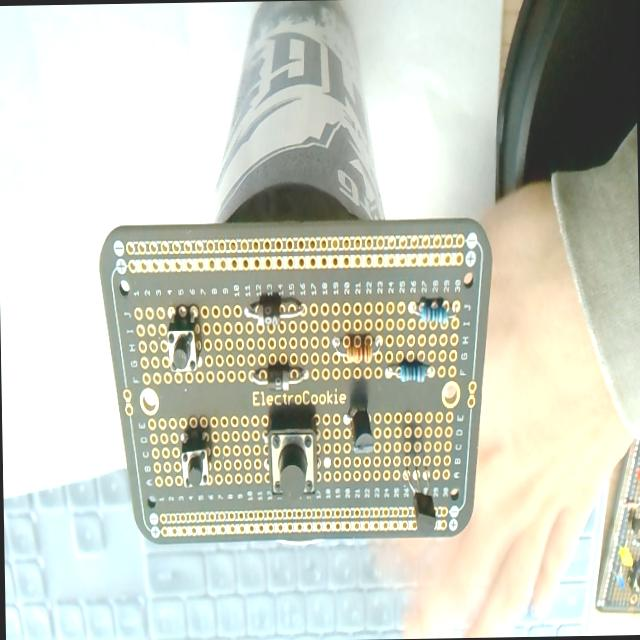diode: (240, 294, 314, 338), (246, 354, 314, 388)
resistor: (402, 288, 458, 328), (380, 354, 444, 386), (329, 330, 386, 362)
switch: (266, 416, 324, 500), (162, 306, 204, 383), (178, 431, 220, 494)
transistor: (399, 459, 436, 534), (342, 398, 380, 459)
